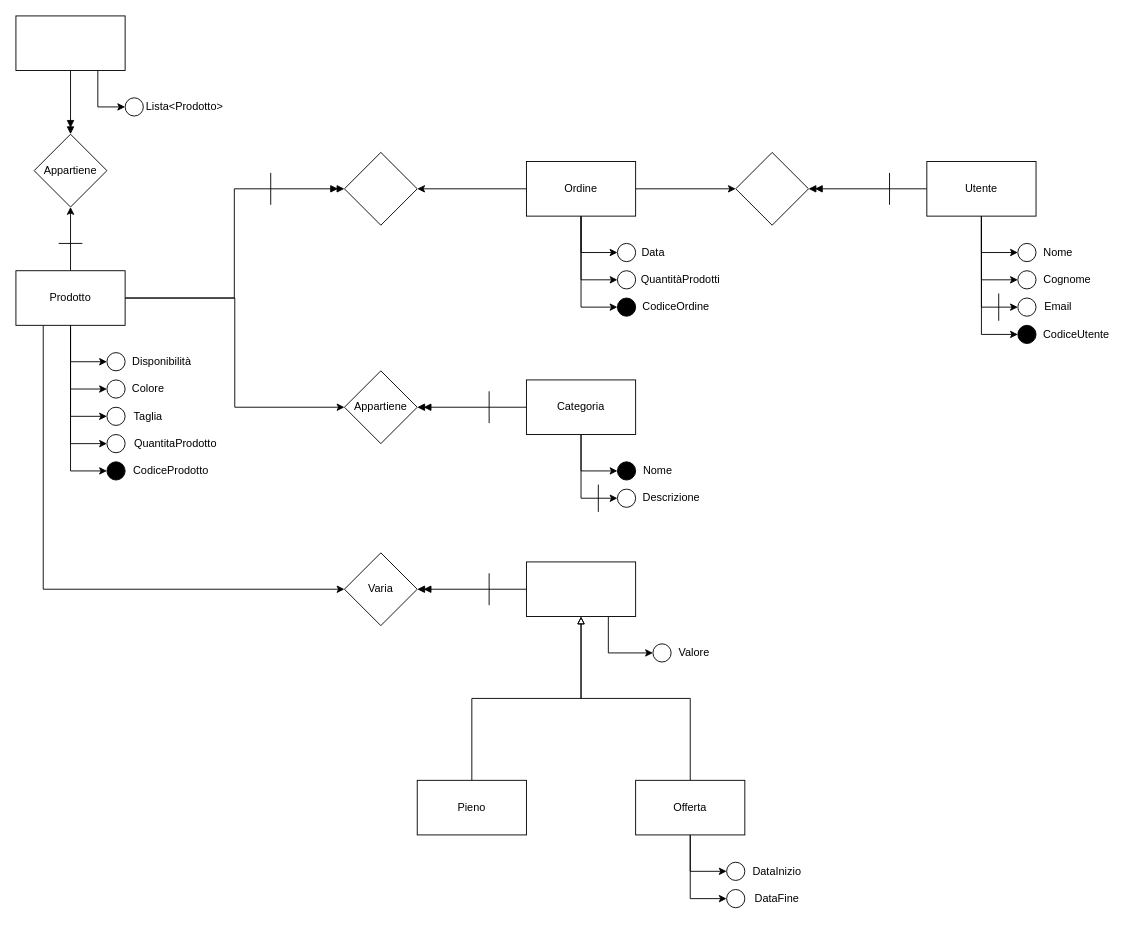
This 1138x928 diagram has some shape labels left out. The centre of each missing label's shape, as x and y in pixels:
"Effettua" goes at (x=772, y=188).
"Galleria" goes at (x=70, y=43).
"Prezzo" goes at (x=581, y=589).
"Riceve" goes at (x=380, y=188).
